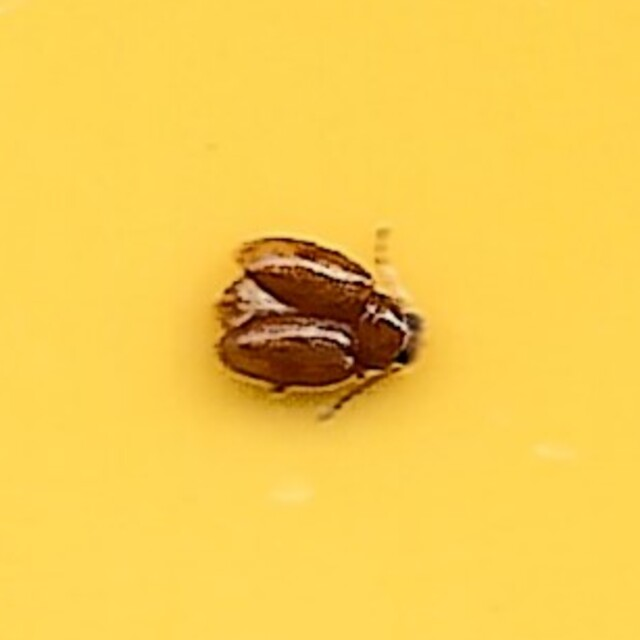Coleoptera: (208, 215, 432, 425)
